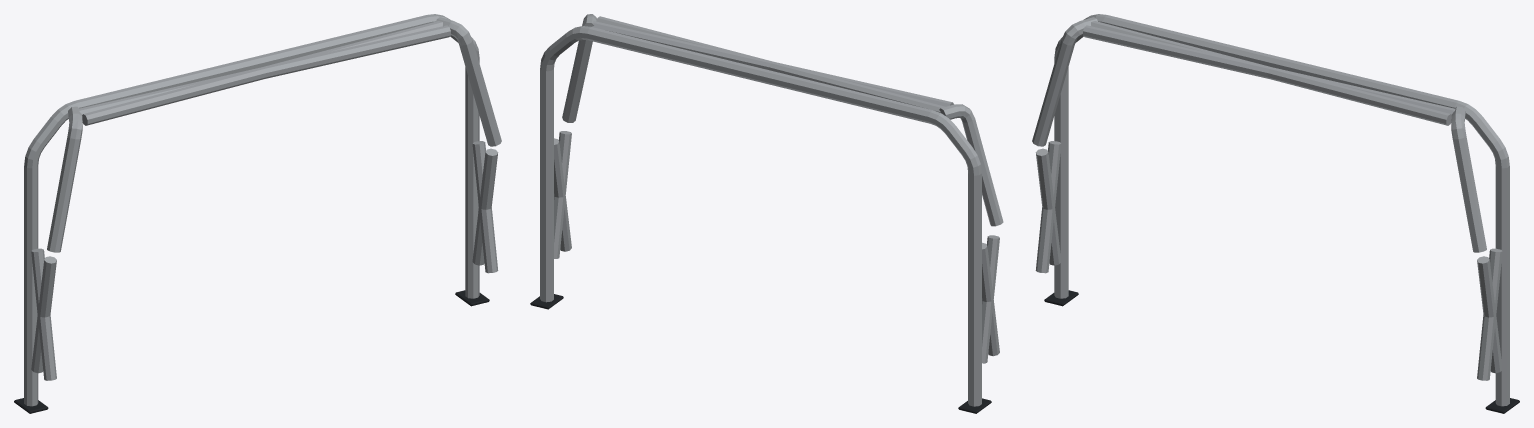
File: brute_500.glb
The picture shows the model from 3 angles, left to right: view 1: azimuth 30°, elevation 25°; view 2: azimuth 150°, elevation 25°; view 3: azimuth 330°, elevation 25°; orthographic projection. The views are drawn at different scales.
Visible parts, largest first — view 1: model; view 2: model; view 3: model.
Boxes of the visible parts, box(x1,y1,x2,y2) form: model: box(14, 14, 501, 413); model: box(530, 14, 1003, 413); model: box(1032, 14, 1519, 413).
Size of the model in its own units: 1.66 by 1.02 by 0.2122.
2 materials, 1 textured.
